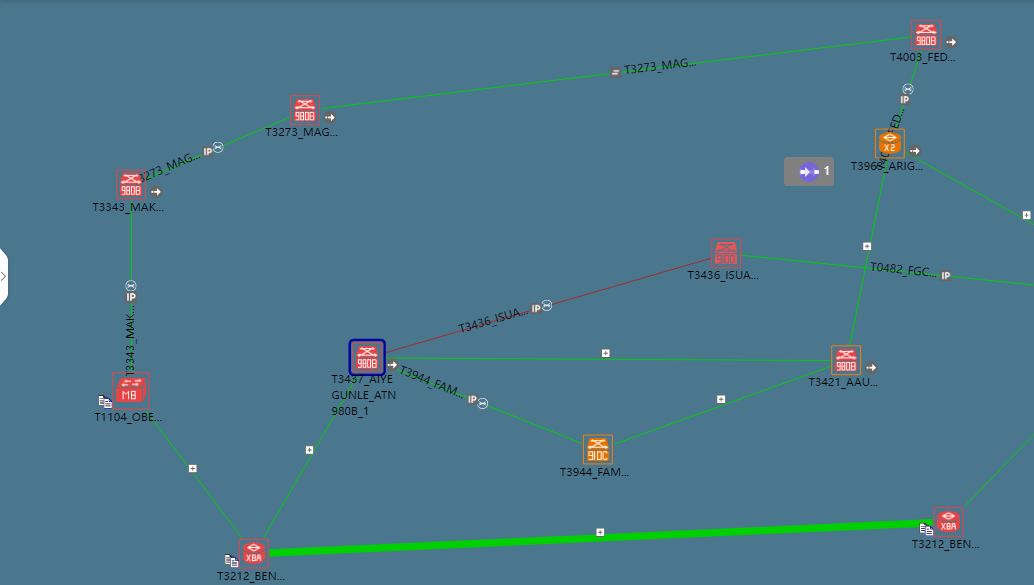ATN_Orange: (585, 438, 616, 469)
ATN_Red: (830, 347, 861, 378), (288, 95, 317, 126), (714, 238, 738, 268), (352, 347, 383, 370), (914, 18, 937, 47), (120, 173, 144, 197)
Link_Green: (333, 37, 881, 113), (288, 515, 931, 559), (611, 367, 821, 449), (262, 373, 364, 540), (391, 360, 580, 449), (805, 173, 885, 339), (145, 412, 247, 540), (145, 115, 292, 184), (772, 250, 1032, 286), (908, 154, 1032, 229), (850, 160, 893, 314), (960, 431, 1032, 506), (391, 354, 835, 365), (850, 263, 1032, 286), (740, 250, 900, 271), (895, 50, 926, 118), (850, 250, 869, 326)
Link_Red: (391, 257, 701, 349)
Router_Red: (113, 373, 150, 410), (242, 541, 273, 572), (934, 509, 965, 540)
Switch_Red: (113, 373, 150, 410)
